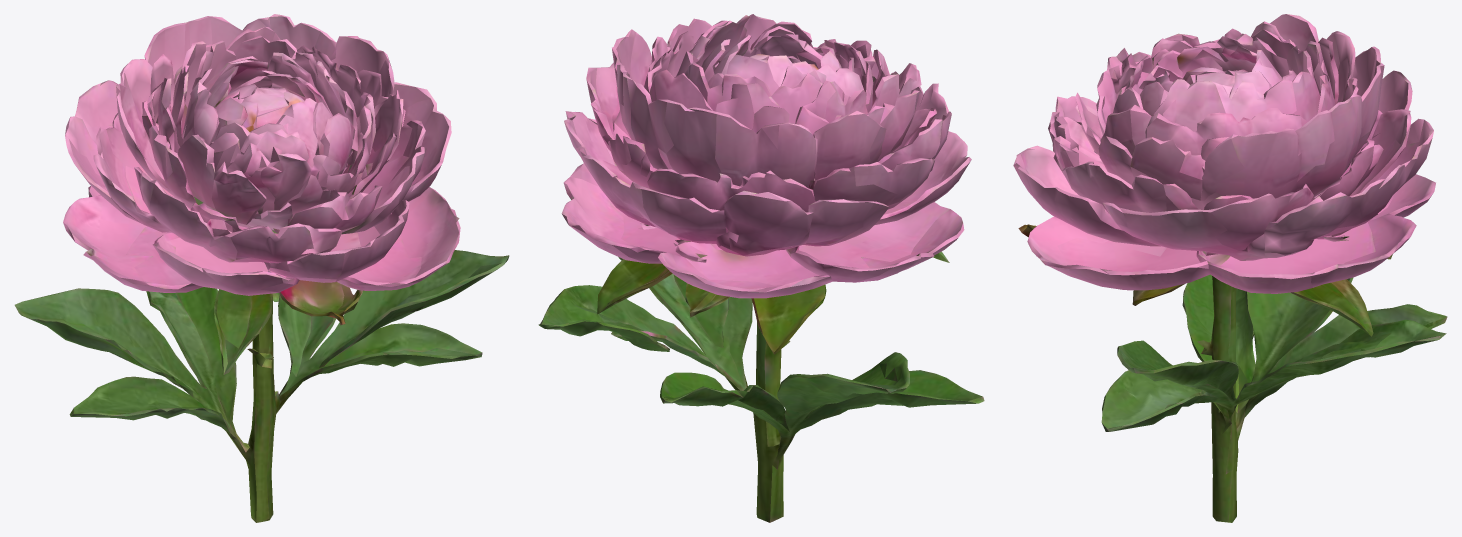
File: lux-peony.glb
The picture shows the model from 3 angles, left to right: view 1: azimuth 30°, elevation 25°; view 2: azimuth 150°, elevation 25°; view 3: azimuth 270°, elevation 25°; orthographic projection. The views are drawn at different scales.
Parts seen in each view (by area): view 1: geometry_0; view 2: geometry_0; view 3: geometry_0.
Boxes of the visible parts, bbox=[...] form: geometry_0: bbox=[14, 14, 509, 522]; geometry_0: bbox=[538, 14, 984, 522]; geometry_0: bbox=[1013, 14, 1447, 522].
Bounding box in the file's own units: 0.5616 × 0.6 × 0.5086.
Materials: 1 (1 with a texture image).
